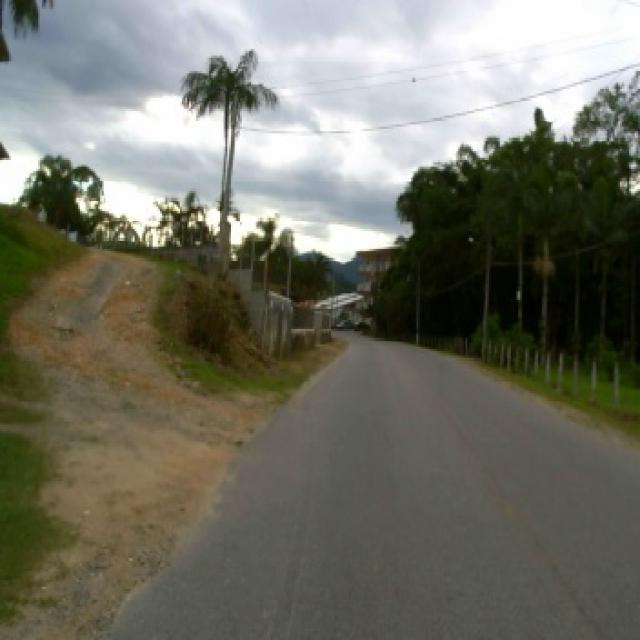Poth-hole: (52, 322, 78, 338)
